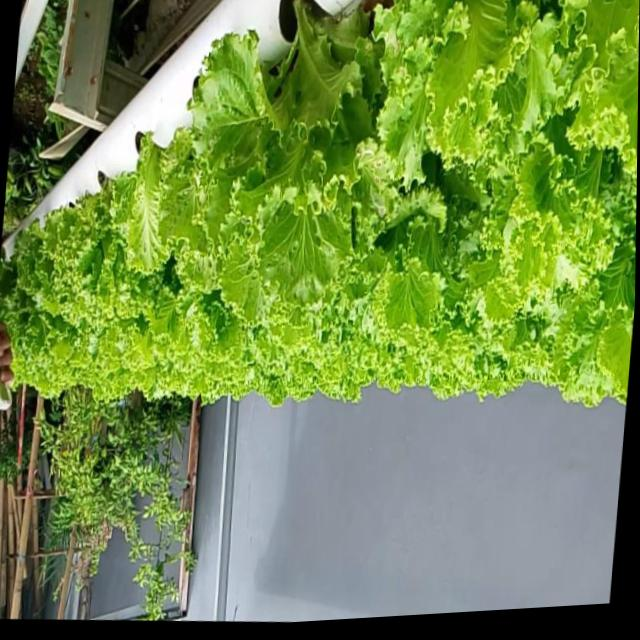Mature: (162, 0, 387, 318), (37, 168, 145, 332)
